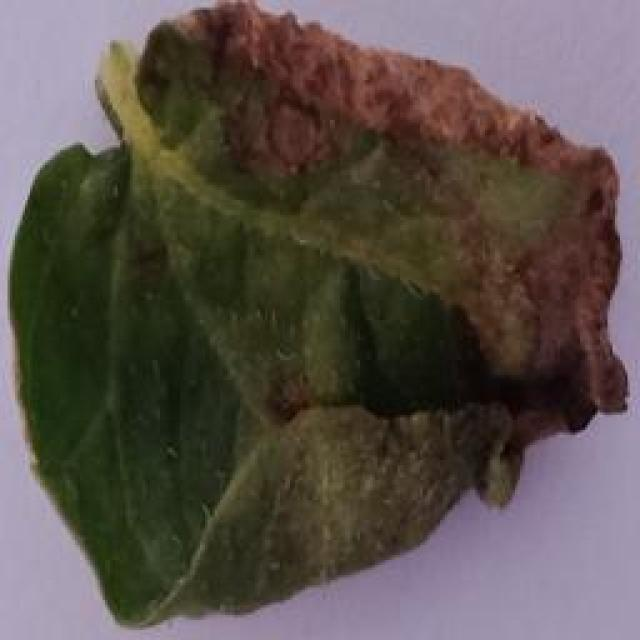Potato_Late_Blight: (11, 8, 618, 630)
